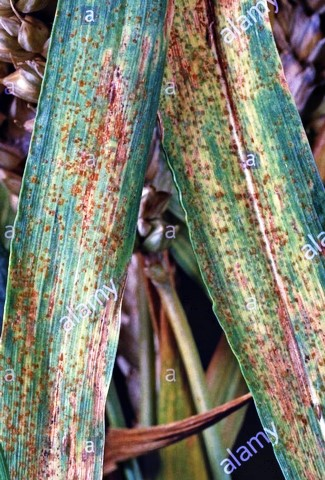Leaf Rust: (10, 32, 146, 471), (175, 62, 318, 376)
